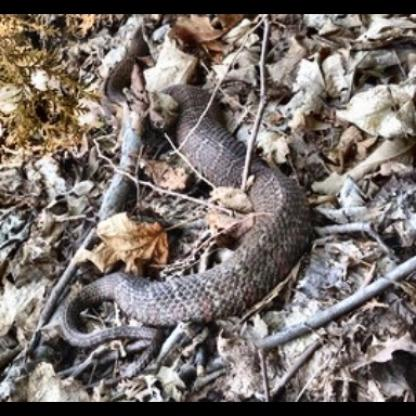Snake: (56, 82, 315, 367)
